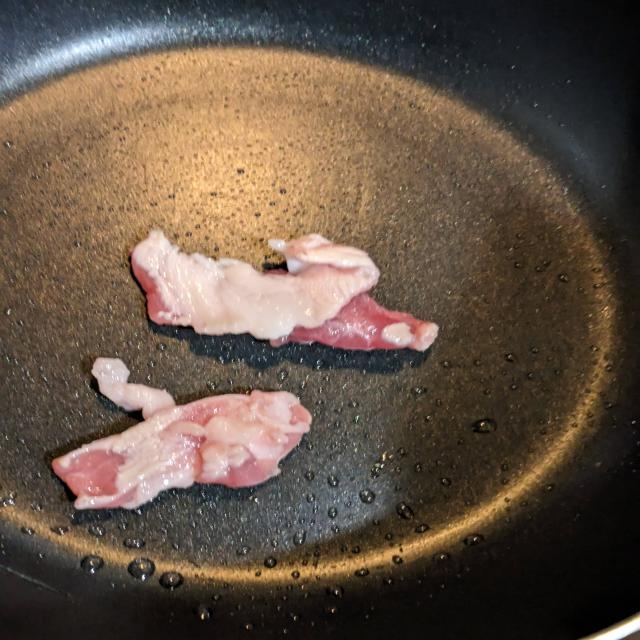NG undercooked pork,: (123, 221, 449, 365), (47, 351, 317, 521)
